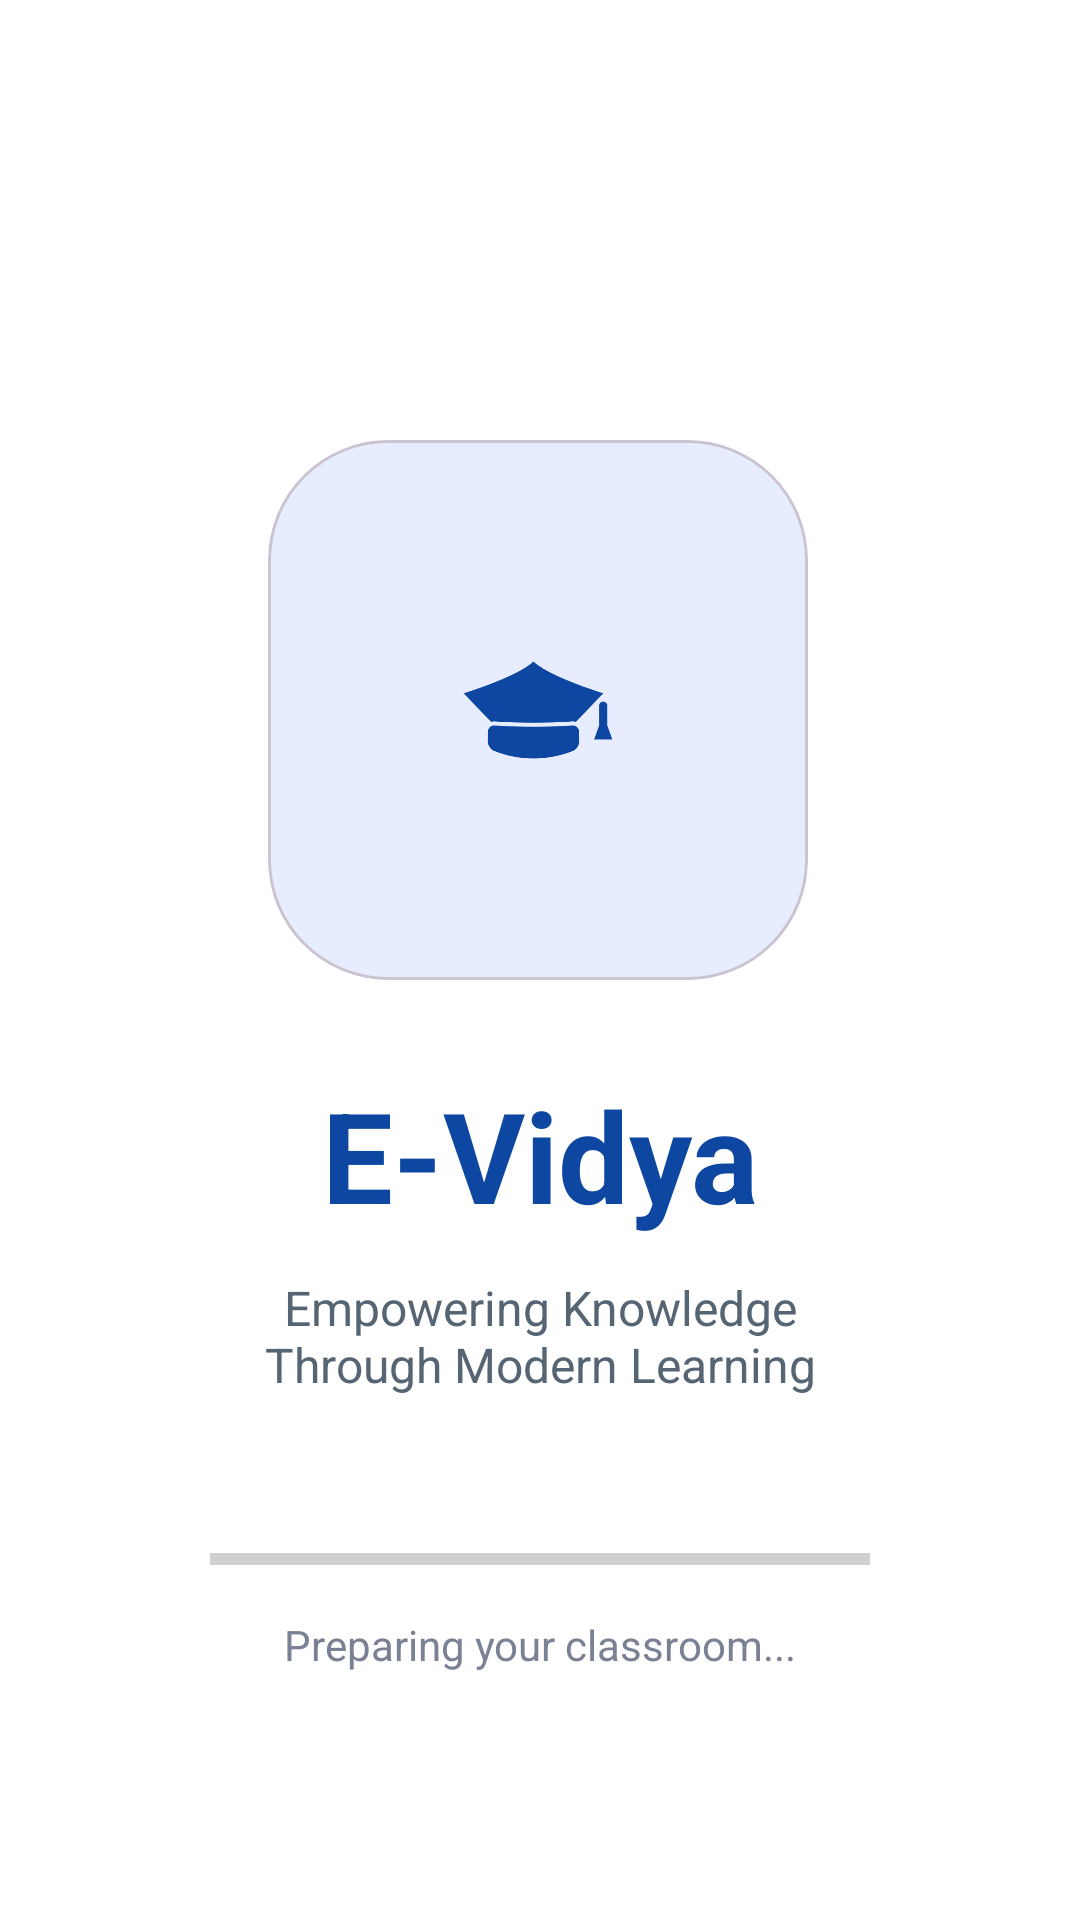

Named icons in this screenshot (1080w x 1920h) and their centers, (x=x, y=y):
graduation: (x=538, y=710)
